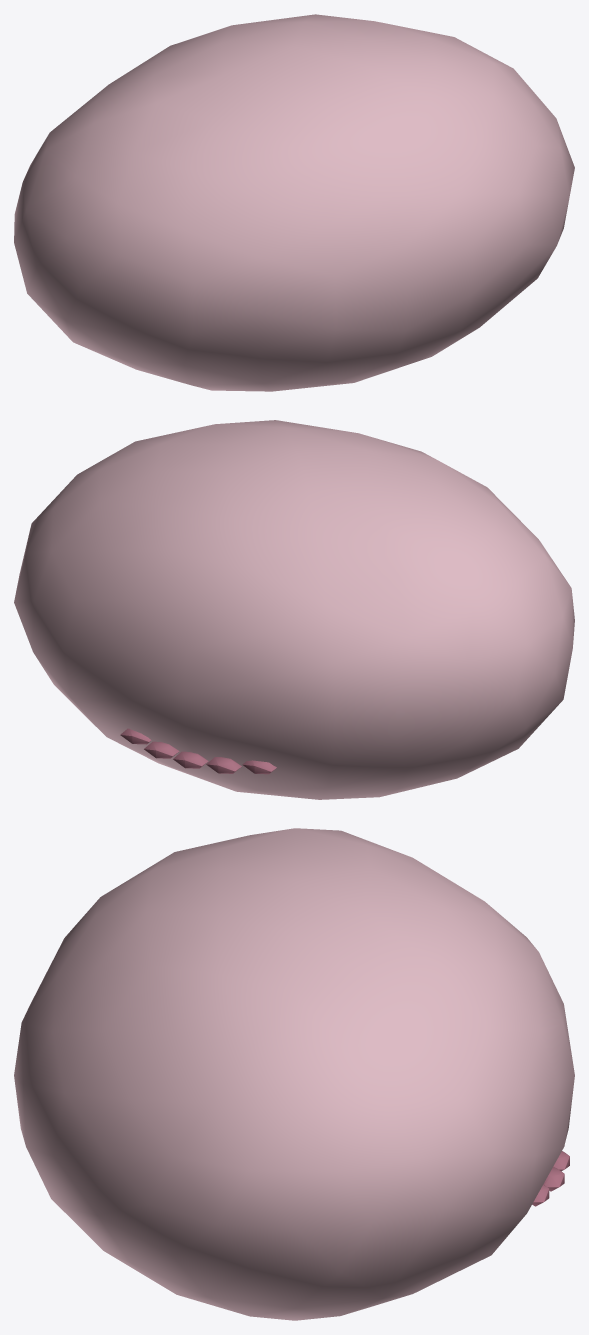
Rendered from axolotl_head.glb.
The picture shows the model from 3 angles, top to bottom: view 1: azimuth 30°, elevation 25°; view 2: azimuth 150°, elevation 25°; view 3: azimuth 270°, elevation 25°; orthographic projection. The views are drawn at different scales.
Visible parts, largest first — view 1: axolotl_head; view 2: axolotl_head; view 3: axolotl_head.
Boxes of the visible parts, x1=… form: axolotl_head: x1=14, y1=14, x2=574, y2=391; axolotl_head: x1=14, y1=420, x2=574, y2=799; axolotl_head: x1=14, y1=828, x2=574, y2=1320.
Bounding box in the file's own units: 0.3606 × 0.2105 × 0.2793.
